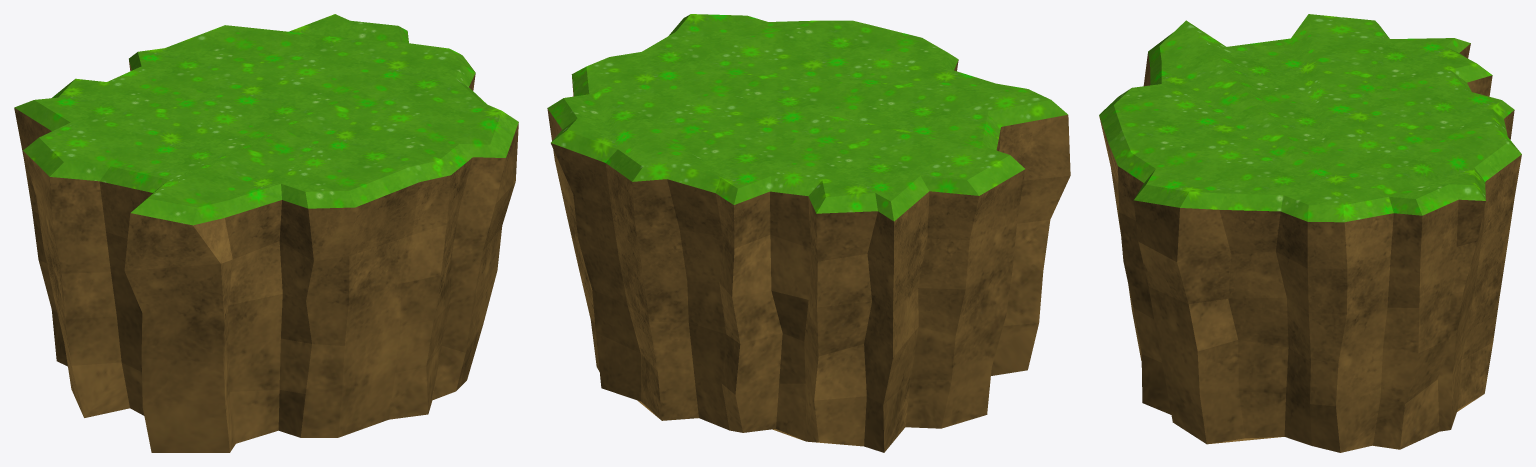
File: cliffs.fbx
3 renders of one model, left to right at view 1: azimuth 30°, elevation 25°; view 2: azimuth 150°, elevation 25°; view 3: azimuth 270°, elevation 25°, orthographic. The views are drawn at different scales.
Parts seen in each view (by area): view 1: Plane; view 2: Plane; view 3: Plane.
Boxes of the visible parts, box(x1,y1,x2,y2) form: Plane: box(14, 14, 518, 452); Plane: box(547, 14, 1070, 452); Plane: box(1099, 14, 1521, 452).
Size of the model in its own units: 284 by 169 by 245.
